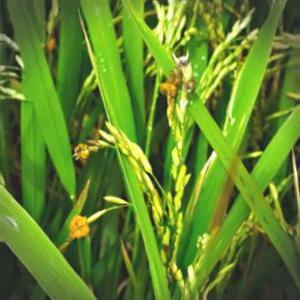Leaf_Scald: (69, 139, 102, 166), (64, 219, 88, 246), (158, 71, 176, 103)
